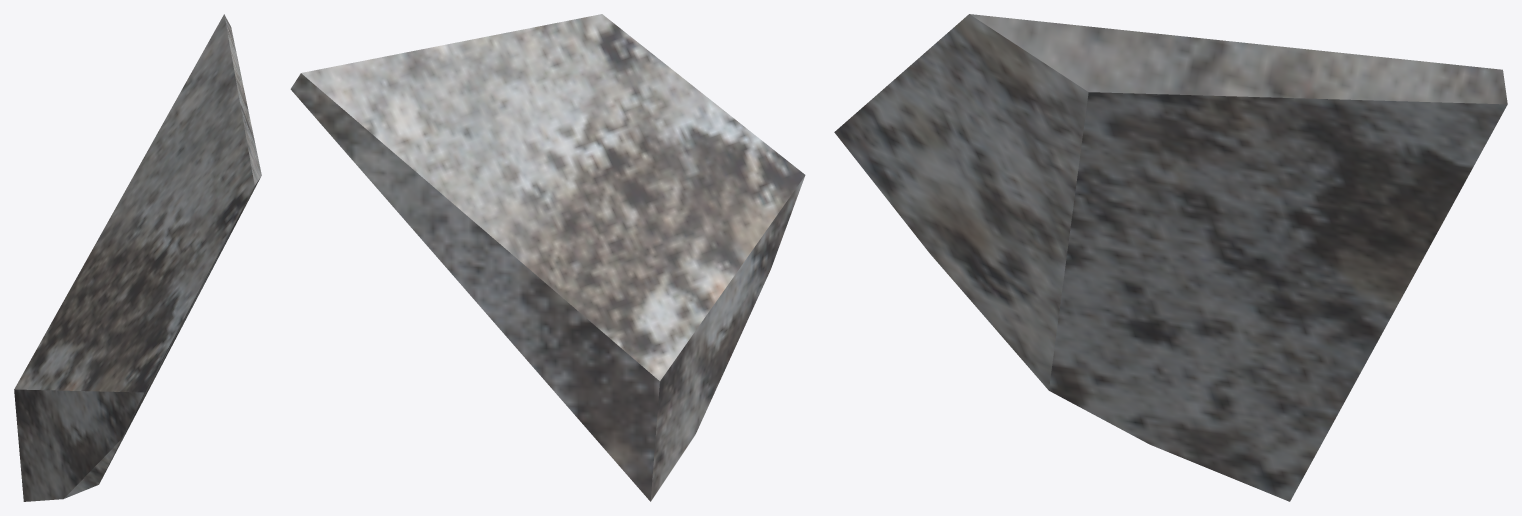
The model's file is Asteroid_Large_001_02_002_03_023.fbx.
3 views of the same model, side by side, from view 1: azimuth 30°, elevation 25°; view 2: azimuth 150°, elevation 25°; view 3: azimuth 270°, elevation 25° (orthographic). The views are drawn at different scales.
Visible parts, largest first — view 1: Asteroid_Large_001_02_002_03_023; view 2: Asteroid_Large_001_02_002_03_023; view 3: Asteroid_Large_001_02_002_03_023.
Boxes of the visible parts, left/top/right/bottom form: Asteroid_Large_001_02_002_03_023: left=14, top=14, right=261, bottom=501; Asteroid_Large_001_02_002_03_023: left=290, top=14, right=805, bottom=501; Asteroid_Large_001_02_002_03_023: left=834, top=14, right=1507, bottom=501.
Bounding box in the file's own units: 3.8 × 4.88 × 4.57.
